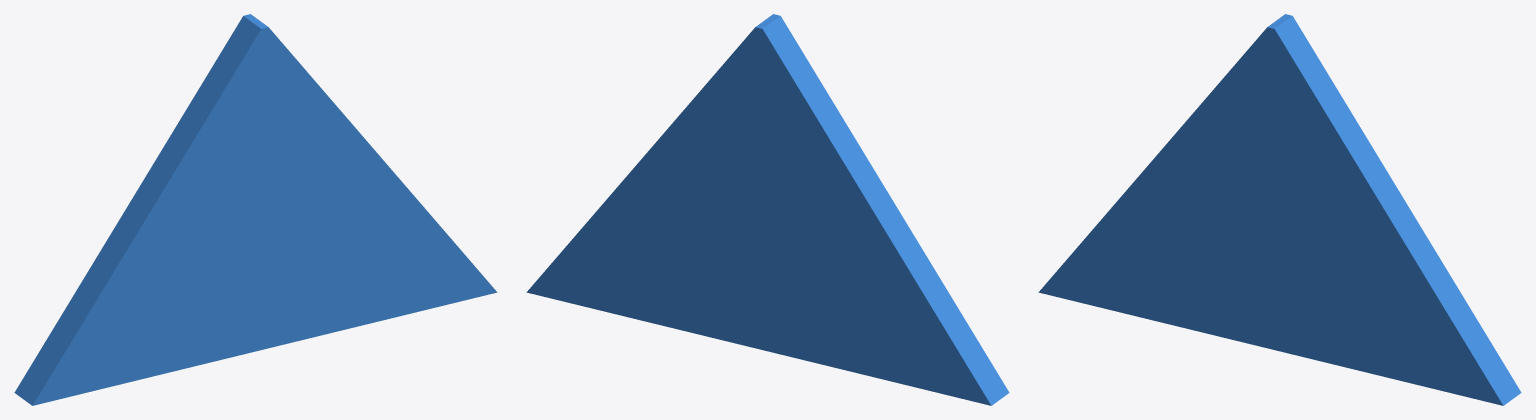
File: Collision_Roof_Front_Brick6.fbx
3 renders of one model, left to right at view 1: azimuth 30°, elevation 25°; view 2: azimuth 150°, elevation 25°; view 3: azimuth 330°, elevation 25°, orthographic.
Parts seen in each view (by area): view 1: UCX_Roof_Front_Brick6_1; view 2: UCX_Roof_Front_Brick6_1; view 3: UCX_Roof_Front_Brick6_1.
Boxes of the visible parts, bbox=[...] form: UCX_Roof_Front_Brick6_1: bbox=[14, 14, 497, 405]; UCX_Roof_Front_Brick6_1: bbox=[526, 14, 1009, 405]; UCX_Roof_Front_Brick6_1: bbox=[1038, 14, 1521, 405].
Size of the model in its own units: 683 by 451 by 45.89.
